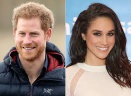female: (80, 7, 122, 66)
male: (11, 6, 54, 70)
